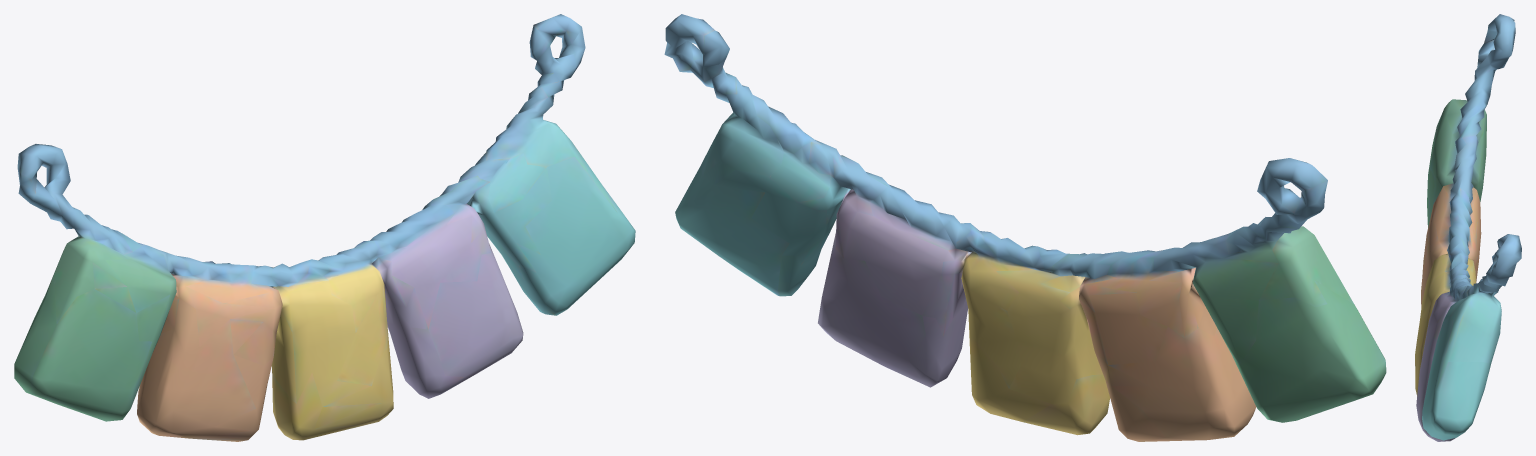
File: library_letter_garland.glb
3 renders of one model, left to right at view 1: azimuth 30°, elevation 25°; view 2: azimuth 150°, elevation 25°; view 3: azimuth 270°, elevation 25°, orthographic. The views are drawn at different scales.
Parts seen in each view (by area): view 1: tripo_node_c6222969-bee2-4311-9c3a-4b6c1e763b2b; view 2: tripo_node_c6222969-bee2-4311-9c3a-4b6c1e763b2b; view 3: tripo_node_c6222969-bee2-4311-9c3a-4b6c1e763b2b.
Part boxes in pixels (left/top/right/bottom): tripo_node_c6222969-bee2-4311-9c3a-4b6c1e763b2b: left=14, top=14, right=635, bottom=441; tripo_node_c6222969-bee2-4311-9c3a-4b6c1e763b2b: left=664, top=14, right=1386, bottom=441; tripo_node_c6222969-bee2-4311-9c3a-4b6c1e763b2b: left=1415, top=14, right=1521, bottom=441.
Bounding box in the file's own units: 1.2 × 0.6017 × 0.2137.
1 material, 1 textured.
